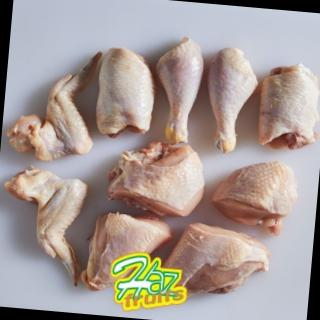Ayam: (4, 41, 107, 169), (1, 161, 94, 291), (161, 220, 277, 311), (104, 136, 213, 224), (81, 209, 180, 300), (207, 154, 305, 241), (200, 45, 265, 158), (92, 45, 164, 145), (148, 34, 210, 150), (253, 55, 320, 157)
